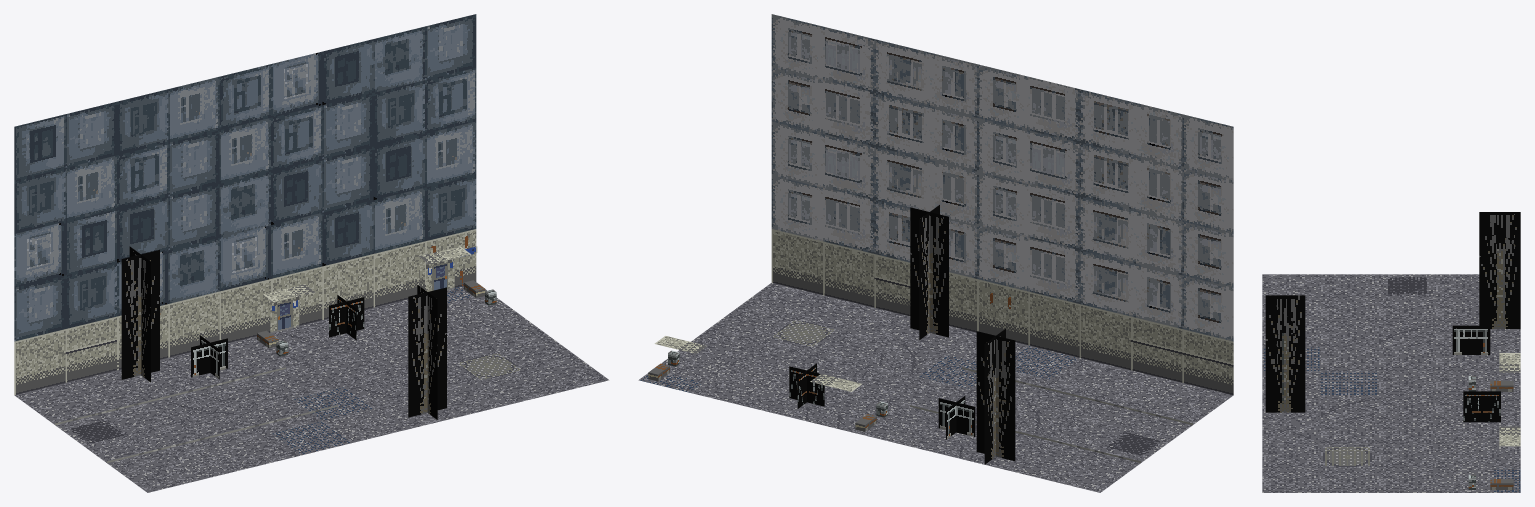
Rendered from street_16.gltf.
3 views of the same model, side by side, from view 1: azimuth 30°, elevation 25°; view 2: azimuth 150°, elevation 25°; view 3: azimuth 270°, elevation 25° (orthographic). The views are drawn at different scales.
Parts seen in each view (by area): view 1: wall_north, ground, tree_1, tree_2, entrance_south, entrance_north, swings, pullup_bar; view 2: wall_south, ground, tree_1, tree_2, pullup_bar, swings; view 3: ground, tree_1, tree_2, swings, pullup_bar, entrance_north, entrance_south.
Part boxes in pixels (left/top/right/bottom): wall_north: left=14, top=14, right=476, bottom=395; ground: left=14, top=285, right=609, bottom=492; tree_1: left=121, top=246, right=159, bottom=382; tree_2: left=408, top=285, right=446, bottom=419; entrance_south: left=263, top=284, right=315, bottom=333; entrance_north: left=419, top=246, right=477, bottom=291; swings: left=329, top=295, right=364, bottom=340; pullup_bar: left=191, top=335, right=227, bottom=379; wall_south: left=771, top=14, right=1233, bottom=395; ground: left=638, top=282, right=1233, bottom=492; tree_1: left=976, top=328, right=1015, bottom=464; tree_2: left=910, top=205, right=948, bottom=339; pullup_bar: left=938, top=396, right=975, bottom=439; swings: left=789, top=363, right=824, bottom=408; ground: left=1262, top=274, right=1520, bottom=492; tree_1: left=1479, top=212, right=1520, bottom=328; tree_2: left=1265, top=295, right=1305, bottom=412; swings: left=1463, top=391, right=1500, bottom=422; pullup_bar: left=1452, top=325, right=1490, bottom=354; entrance_north: left=1499, top=426, right=1520, bottom=446; entrance_south: left=1499, top=353, right=1520, bottom=372.
Bounding box in the file's own units: 36 × 20 × 18.
Materials: 4 (4 with a texture image).
